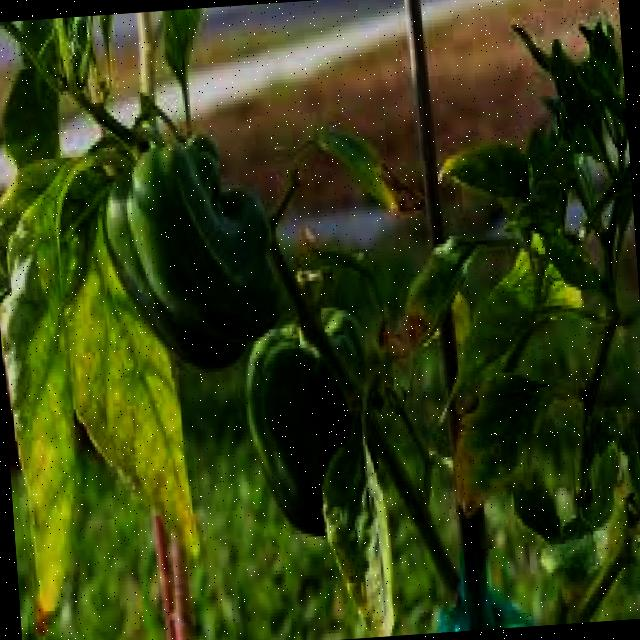leaf curl: (361, 0, 640, 613), (0, 112, 153, 639)
